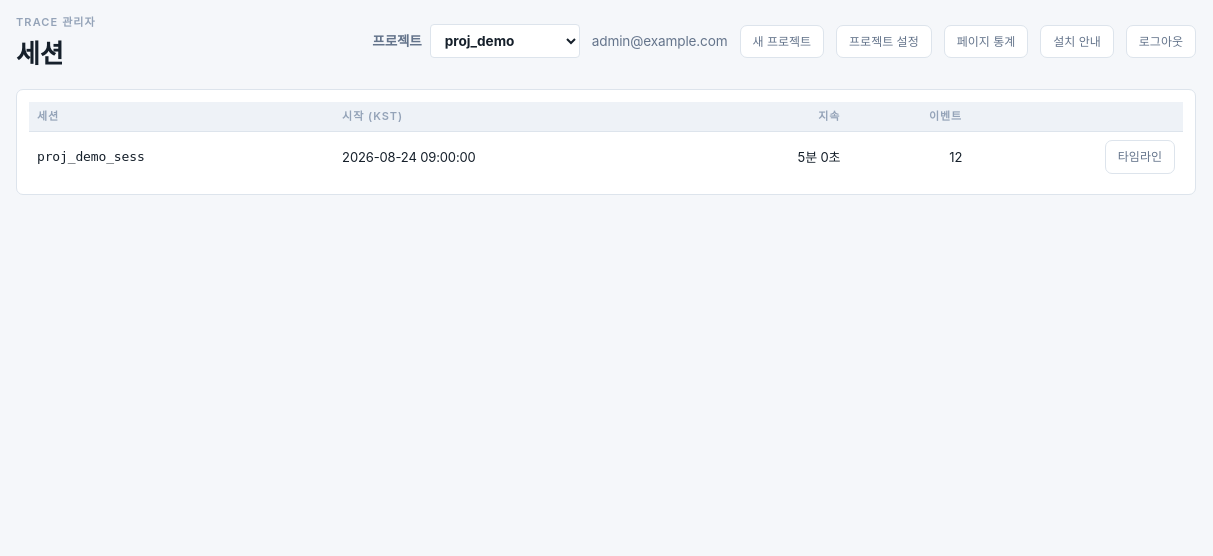
Test: App 프로젝트 전환 동작 › 전환 후 설치 안내 스니펫은 새 프로젝트 ID를 사용한다
The width and height of the screenshot is (1213, 556).
Select "proj_second" in the dropdown labelled "프로젝트". click: (505, 41)
box: [430,24,580,58]
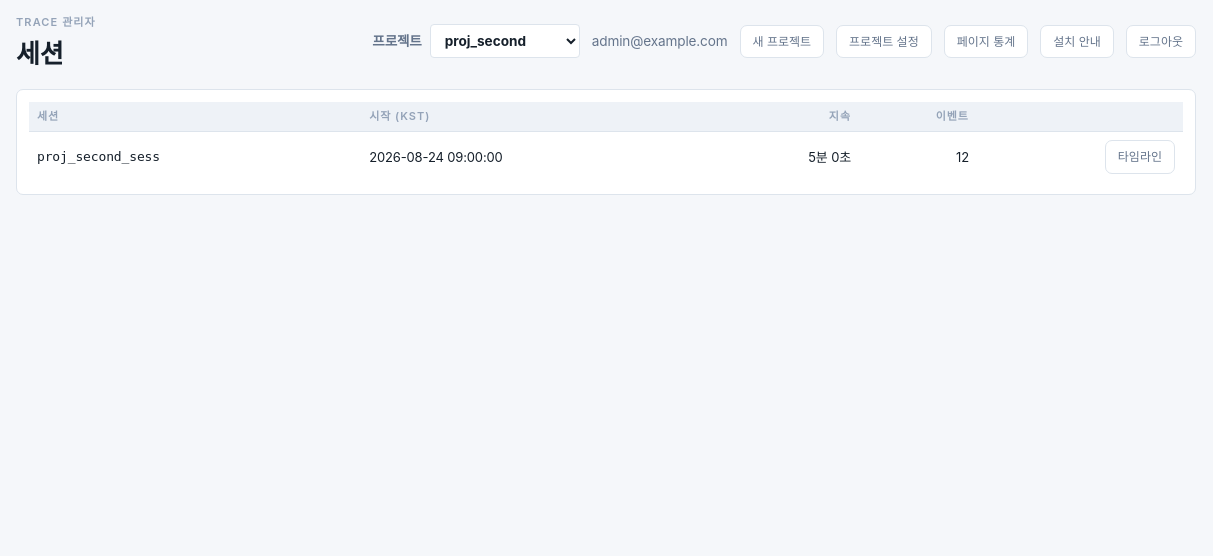
Check: the text "proj_second_sess" is shown, box [37,149,160,164]
Click the button "설치 안내". click: (1077, 41)
box: [1040,25,1114,58]
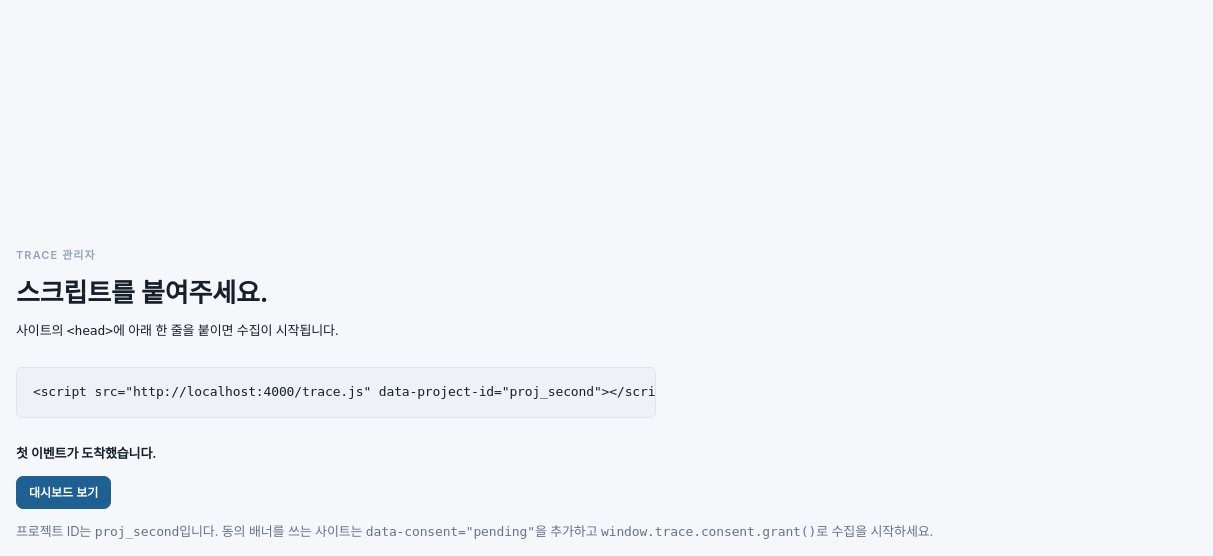
Check: the heading "스크립트를 붙여주세요." is shown, box [16,277,268,308]
Check: the text "data-project-id=\"proj_second\"" is shown, box [33,384,678,399]
